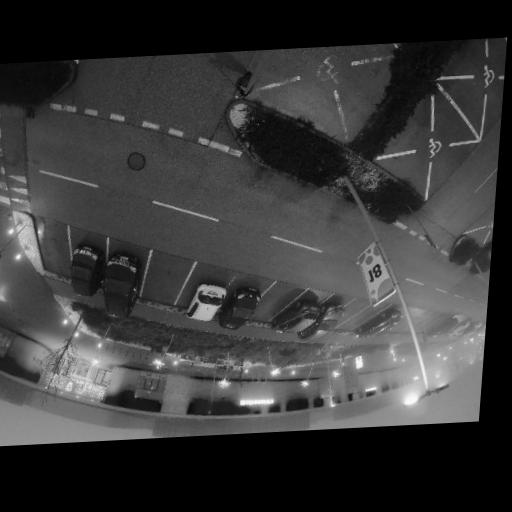busy: (90, 252, 145, 318), (62, 244, 107, 297), (221, 287, 265, 329), (188, 280, 231, 322), (273, 301, 320, 334), (302, 306, 342, 341), (358, 311, 401, 338)
free: (41, 232, 71, 263), (149, 266, 180, 293), (261, 292, 284, 312), (336, 305, 358, 324), (356, 309, 375, 324)
